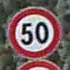limite 50: (8, 6, 59, 58)
